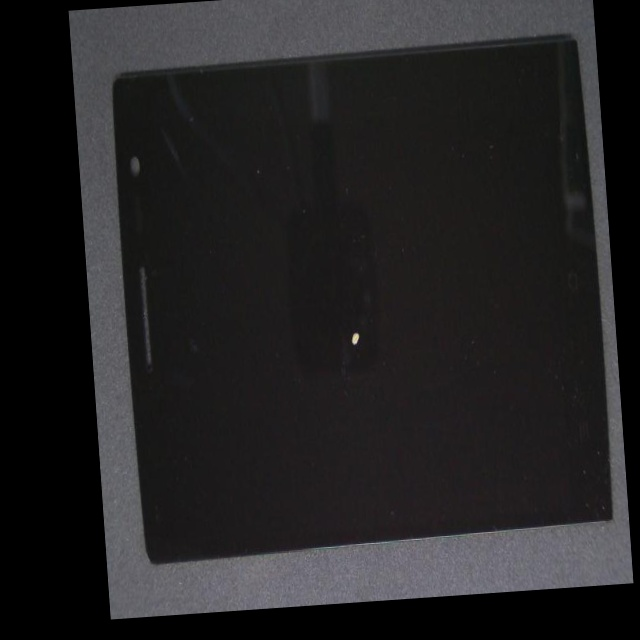stain: (181, 120, 493, 563)
